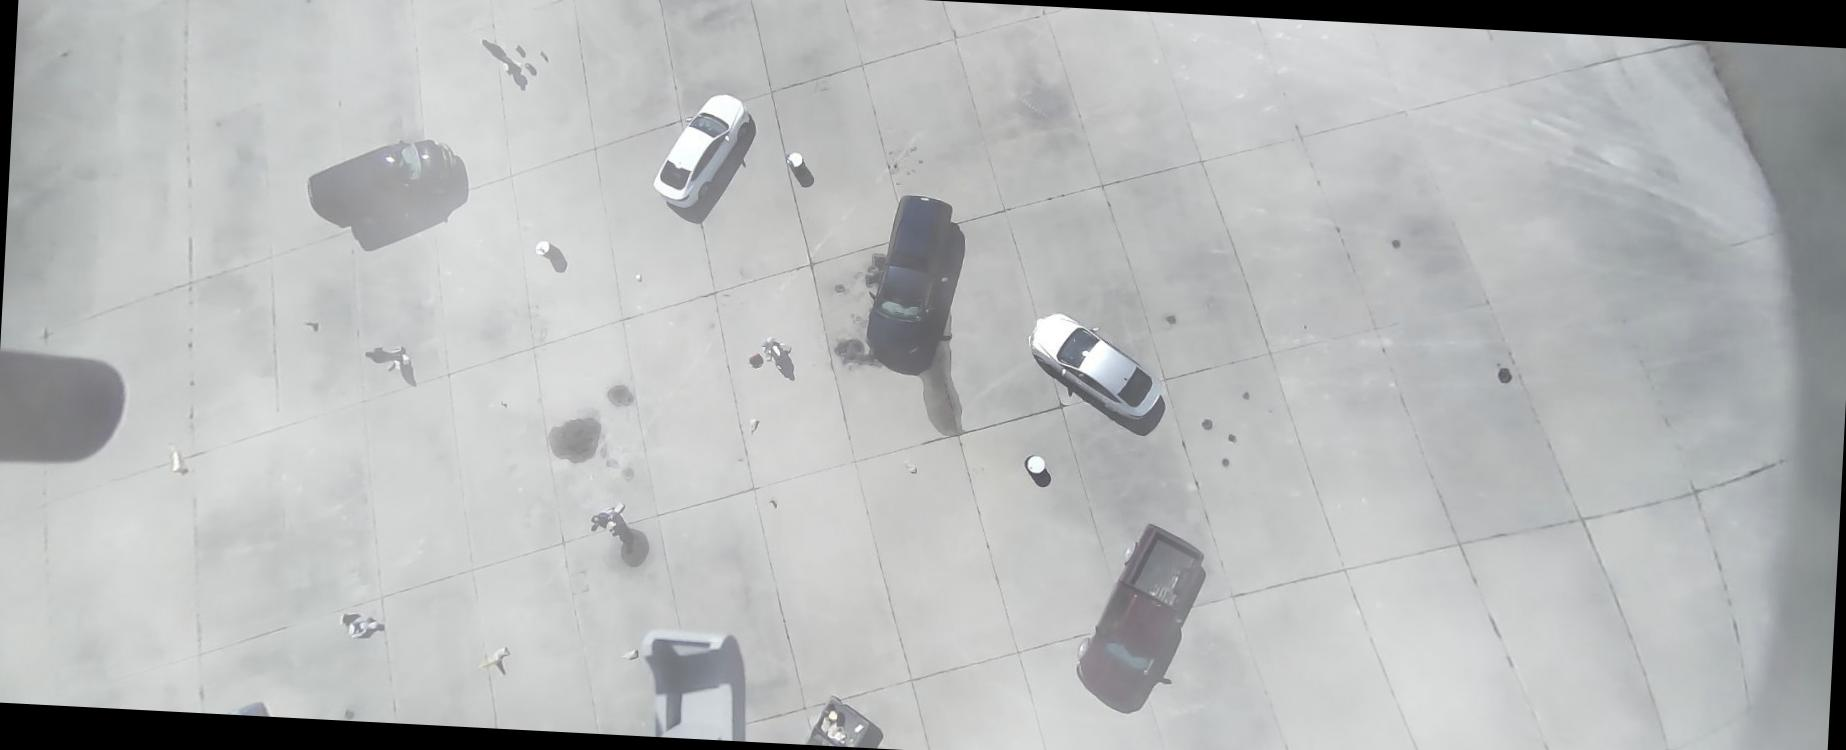vehicle: (1074, 519, 1207, 710), (304, 133, 460, 234), (1024, 312, 1166, 423), (865, 193, 954, 357), (651, 89, 752, 212), (806, 695, 874, 746)
